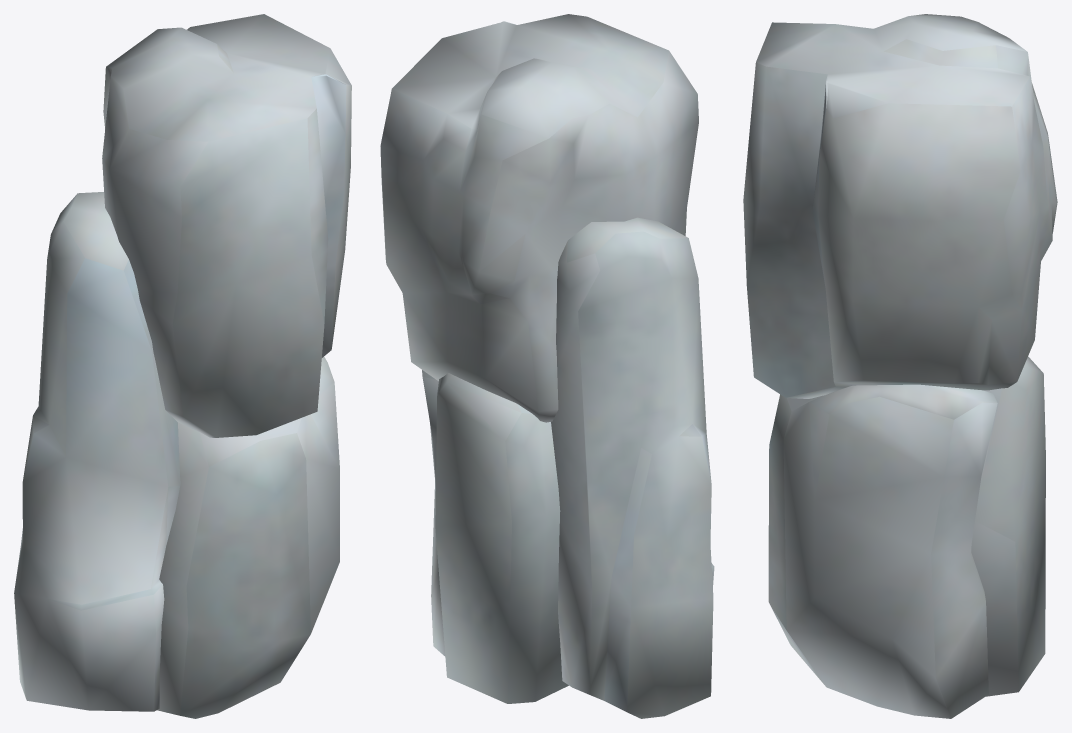
The model's file is P_RockSpire_Spire07.obj.
3 renders of one model, left to right at view 1: azimuth 30°, elevation 25°; view 2: azimuth 150°, elevation 25°; view 3: azimuth 270°, elevation 25°, orthographic. The views are drawn at different scales.
Size of the model in its own units: 43.92 by 84 by 36.91.
